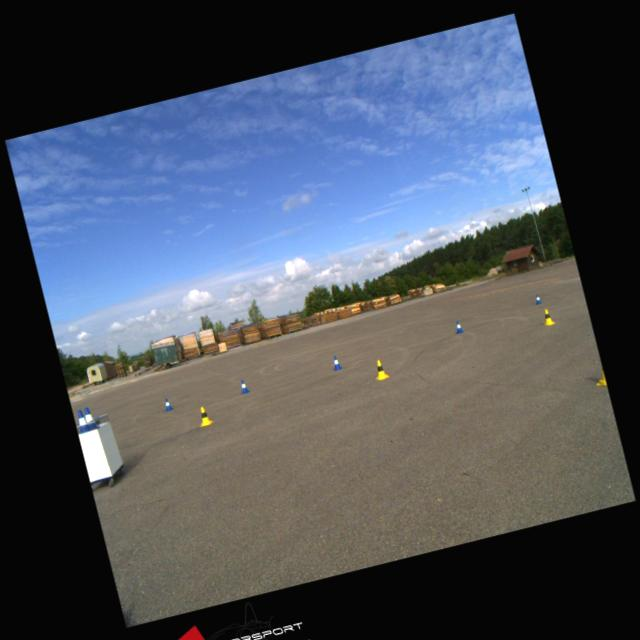blue_cone: (80, 406, 98, 431), (74, 408, 91, 433), (330, 354, 341, 369), (238, 378, 248, 393), (162, 397, 172, 410), (453, 320, 462, 333), (533, 293, 541, 304)
yellow_cone: (370, 358, 389, 380), (195, 405, 212, 426), (540, 307, 554, 325)
